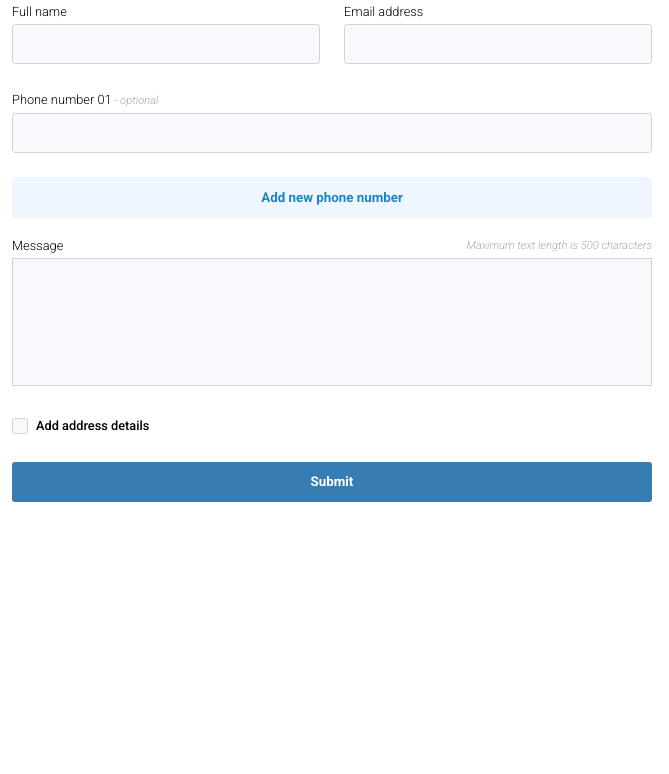
Test: Contact Form › notifies required fields
What coordinates should you click on to do the following:
click the checkbox labelled "Add address details"
I would click on:
 (20, 426)
Its box is [12,418,28,434].
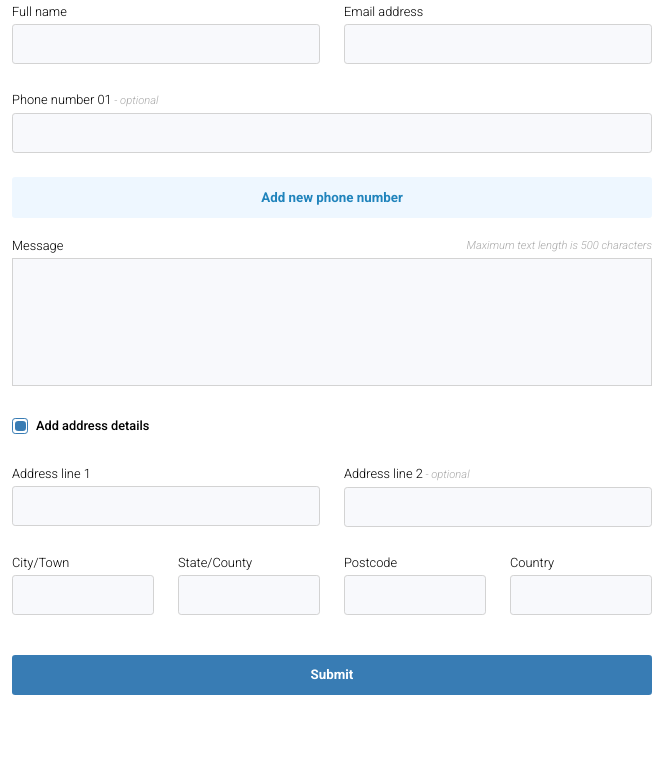
What coordinates should you click on to do the following:
click the button with aria-label "submit button"
I would click on:
 (332, 675)
Its box is [12,655,652,695].
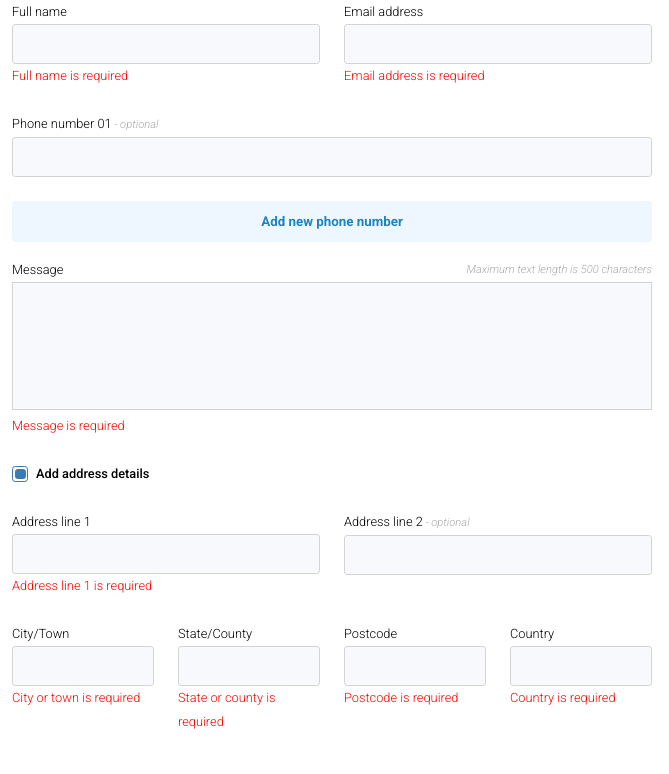
Now the text "Full name is required" is shown 8 times
